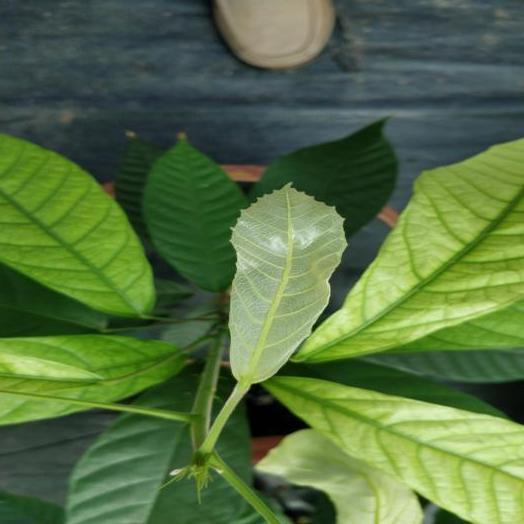Healthy Leaf: (251, 119, 397, 235), (143, 135, 246, 291)
Iron: (297, 139, 523, 361), (199, 185, 345, 453), (266, 375, 523, 523), (0, 135, 154, 316), (0, 335, 184, 424), (258, 429, 421, 523)
